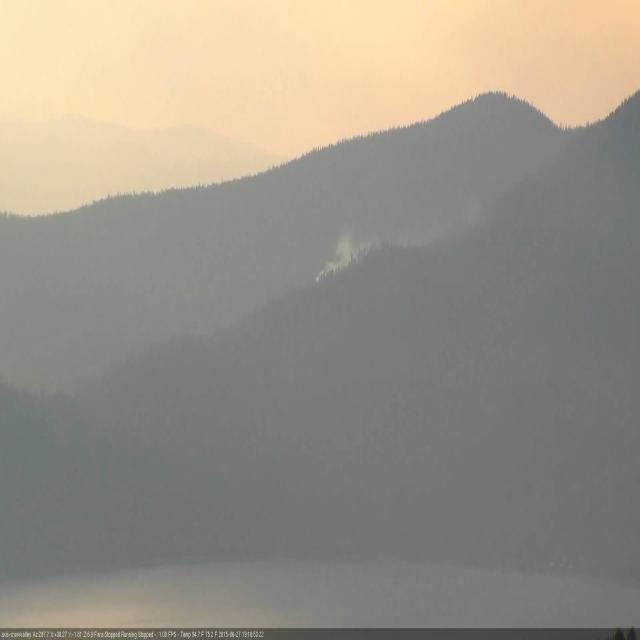smoke: (314, 237, 359, 281)
